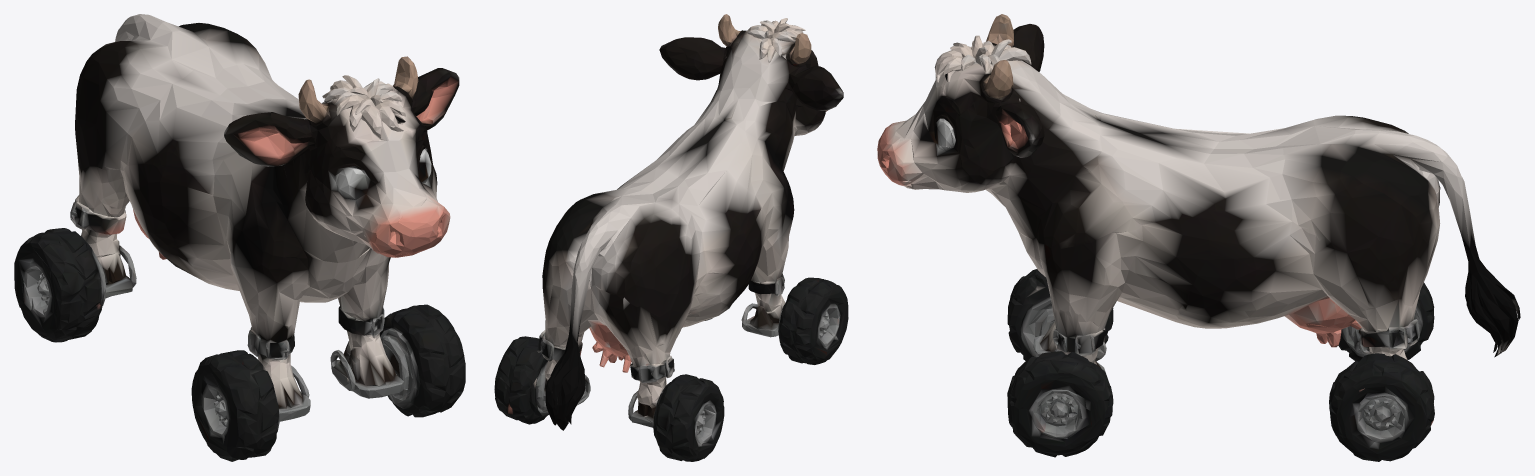
Rendered from cow-race.glb.
The picture shows the model from 3 angles, left to right: view 1: azimuth 30°, elevation 25°; view 2: azimuth 150°, elevation 25°; view 3: azimuth 270°, elevation 25°; orthographic projection. The views are drawn at different scales.
Parts seen in each view (by area): view 1: Mesh_0; view 2: Mesh_0; view 3: Mesh_0.
Boxes of the visible parts, x1=… form: Mesh_0: x1=14, y1=14, x2=465, y2=461; Mesh_0: x1=494, y1=14, x2=848, y2=461; Mesh_0: x1=877, y1=14, x2=1520, y2=461.
Size of the model in its own units: 0.825 by 1.21 by 1.9.
